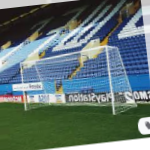goals: (20, 42, 138, 115)
